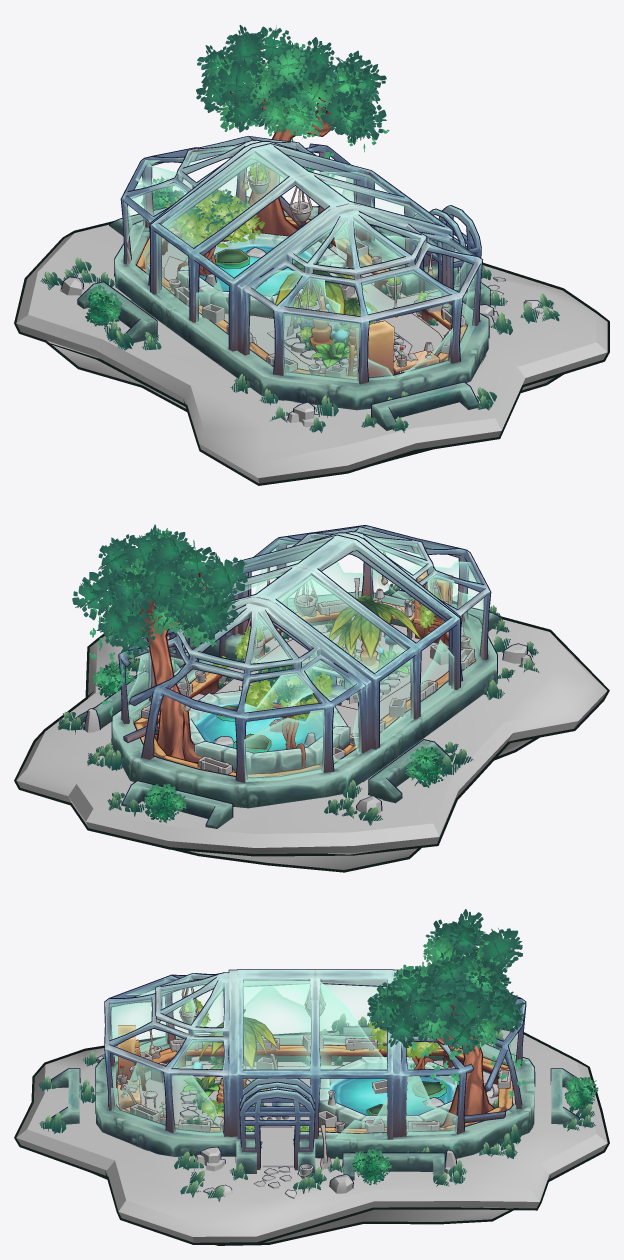
File: garden.gltf
3 renders of one model, top to bottom at view 1: azimuth 30°, elevation 25°; view 2: azimuth 150°, elevation 25°; view 3: azimuth 270°, elevation 25°, orthographic. The views are drawn at different scales.
Parts seen in each view (by area): view 1: Plane, Cube.042, Plane.021, Cube.037, Cube.001, Cube.007, Cube.002, Cube.003, Cube.004, Circle, Cube.028, Plane.018 (+9 smaller); view 2: Plane, Cube.042, Plane.021, Cube.002, Cube.001, Cube.004, Circle, Cube.037, Cube.007, Cube.003, Circle.001, Cube.028 (+13 smaller); view 3: Plane, Cube.042, Plane.021, Cube.037, Cube.001, Cube.004, Cube.007, Circle, Cube.005, Cube.002, Cube.028, Cube.003 (+11 smaller).
Part boxes in pixels (x1,y1,x2,y2): Plane: [14, 194, 609, 485]; Cube.042: [124, 146, 477, 382]; Plane.021: [196, 25, 386, 144]; Cube.037: [242, 210, 483, 384]; Cube.001: [150, 143, 453, 351]; Cube.007: [187, 263, 490, 410]; Cube.002: [120, 136, 356, 285]; Cube.003: [150, 141, 453, 353]; Cube.004: [114, 196, 404, 341]; Circle: [177, 232, 346, 317]; Cube.028: [164, 256, 442, 374]; Plane.018: [163, 189, 264, 247]; Plane: [14, 592, 609, 872]; Cube.042: [127, 532, 486, 781]; Plane.021: [72, 524, 248, 656]; Cube.002: [118, 603, 368, 782]; Cube.001: [188, 534, 460, 749]; Cube.004: [111, 663, 422, 808]; Circle: [188, 690, 350, 773]; Cube.037: [248, 525, 491, 681]; Cube.007: [171, 591, 497, 738]; Cube.003: [154, 532, 460, 751]; Circle.001: [132, 573, 207, 762]; Cube.028: [214, 623, 448, 740]; Plane: [14, 1028, 609, 1245]; Cube.042: [109, 977, 517, 1139]; Plane.021: [367, 909, 525, 1054]; Cube.037: [104, 972, 229, 1136]; Cube.001: [237, 969, 393, 1139]; Cube.004: [315, 1034, 535, 1159]; Cube.007: [95, 1034, 316, 1174]; Circle: [319, 1056, 457, 1128]; Cube.005: [239, 1078, 315, 1170]; Cube.002: [401, 994, 526, 1136]; Cube.028: [116, 1064, 485, 1167]; Cube.003: [228, 969, 401, 1137].
Size of the model in its own units: 20.06 by 12.93 by 23.94.
